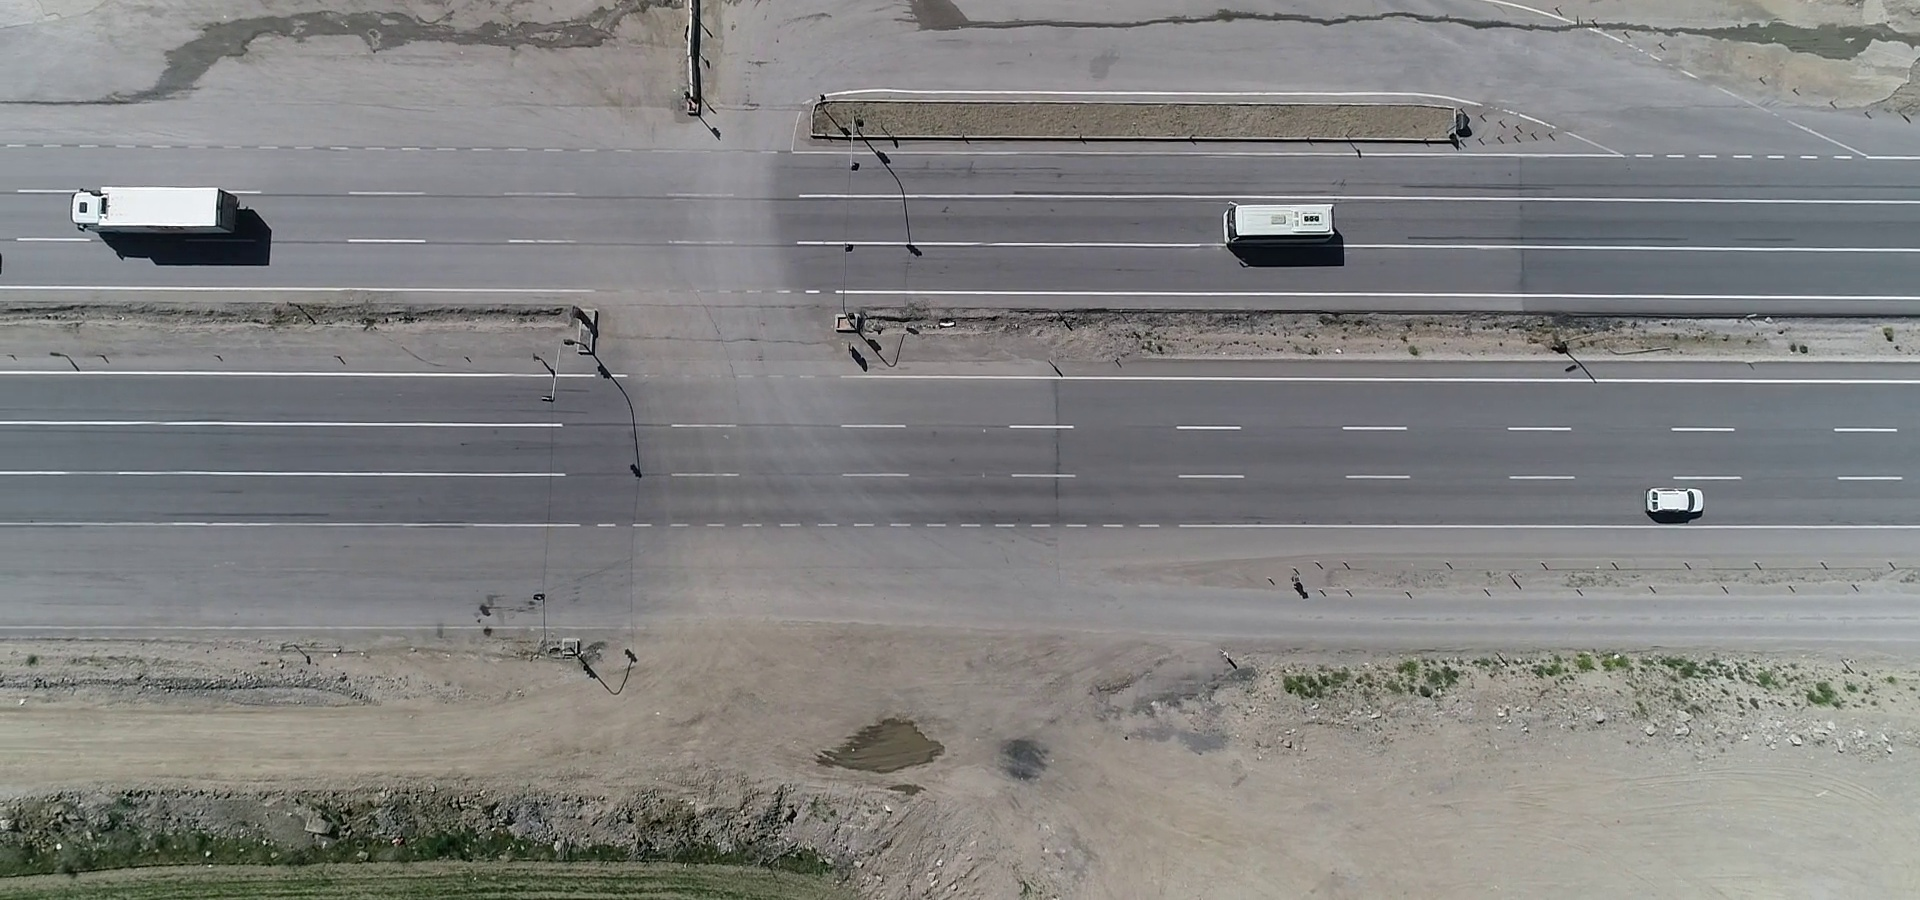araba: (1644, 476, 1708, 524)
kamyon: (58, 182, 257, 242)
otobus: (1213, 189, 1351, 256)
